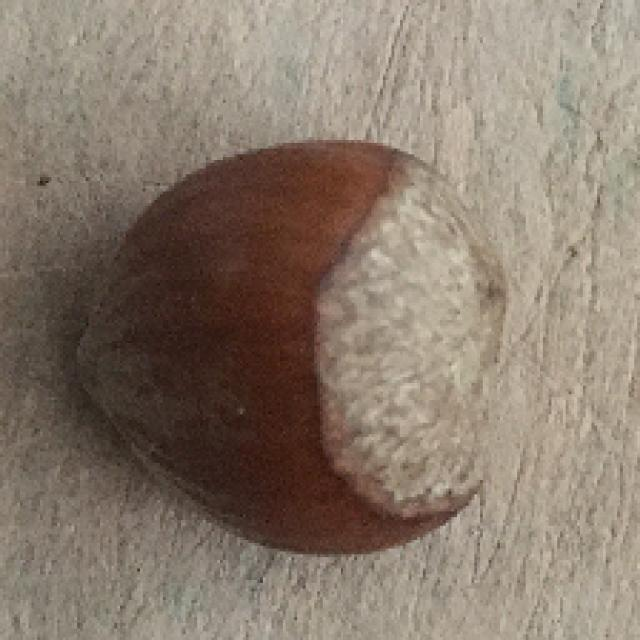qualityHazelnut: (76, 139, 521, 557)
